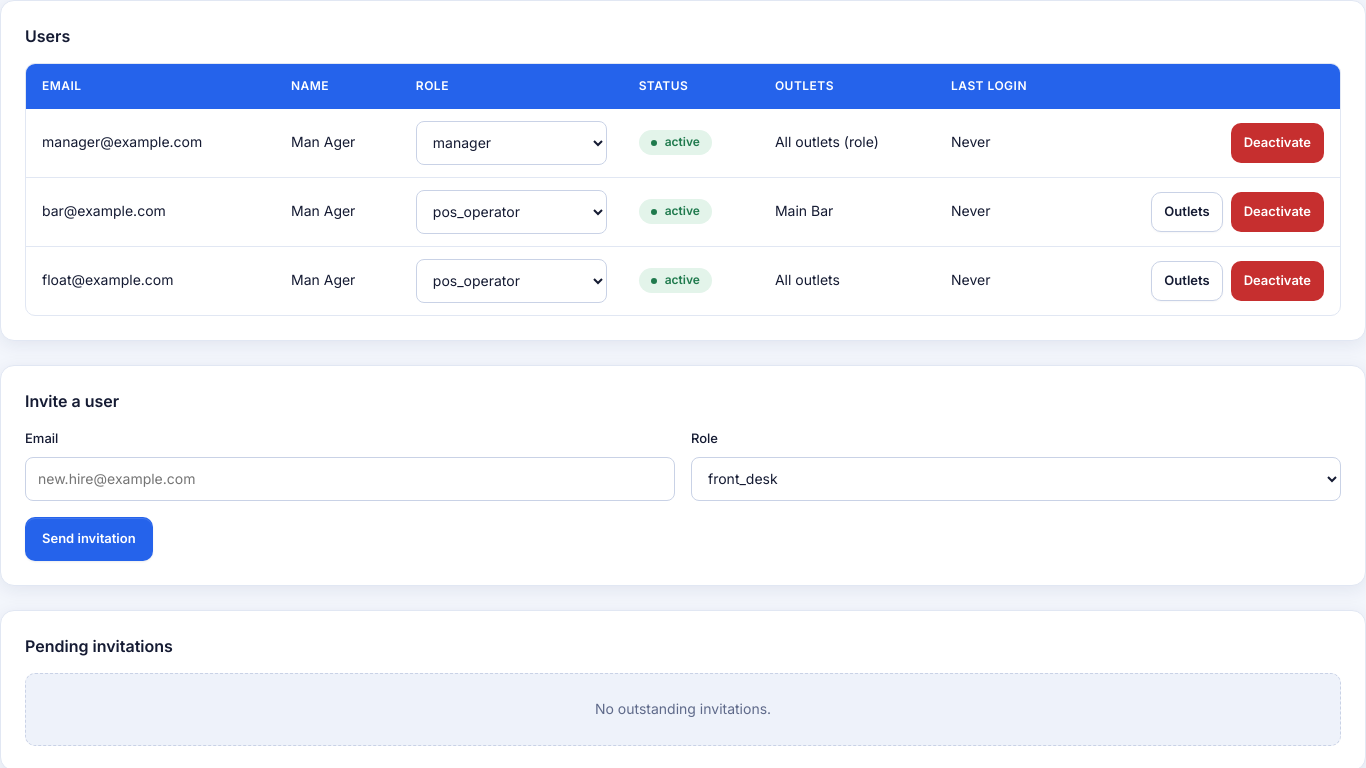
Test: <UsersTab> › staff outlets › shows the server’s refusal
This screenshot has width=1366, height=768.
Click the button with aria-label "Outlets for float@example.com" at (1187, 281), box [1151, 261, 1223, 301]
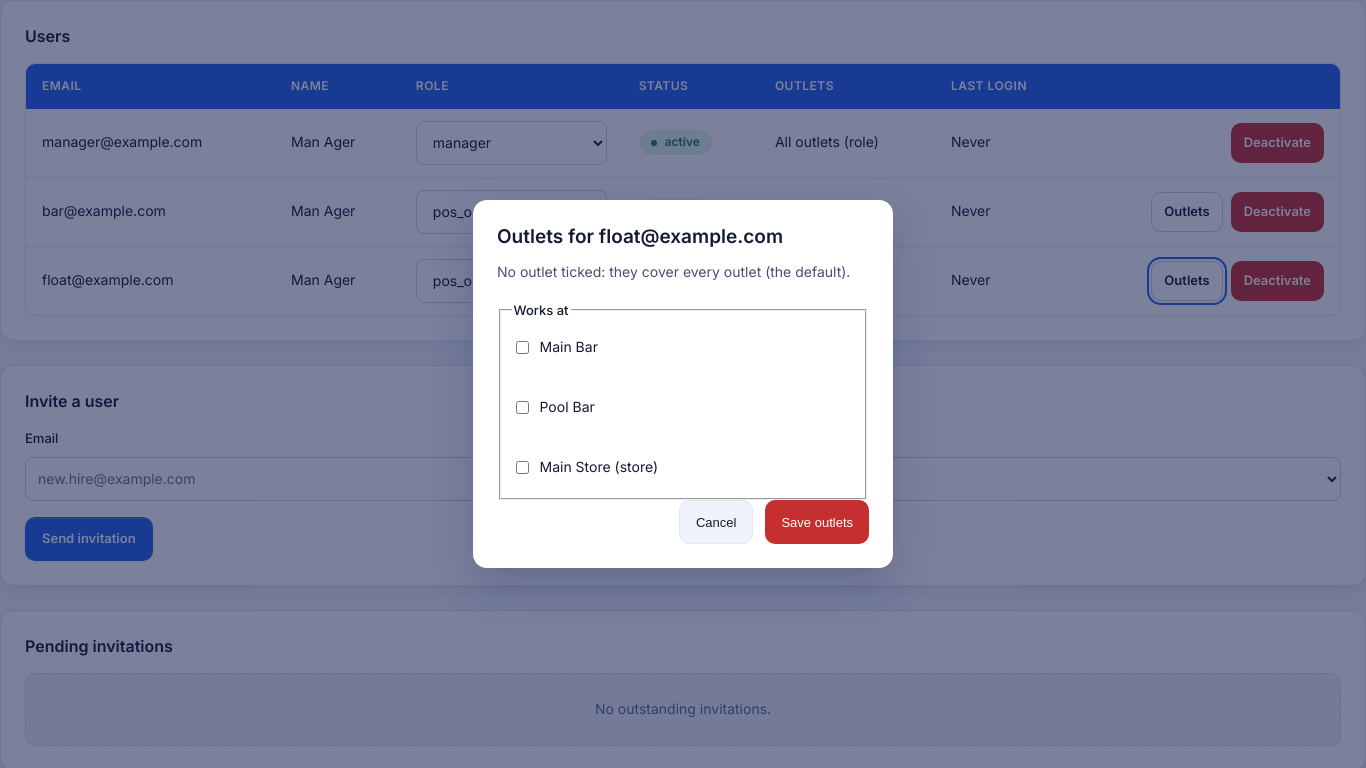
Click the checkbox labelled "Main Store (store)" at (522, 468), box [516, 461, 528, 474]
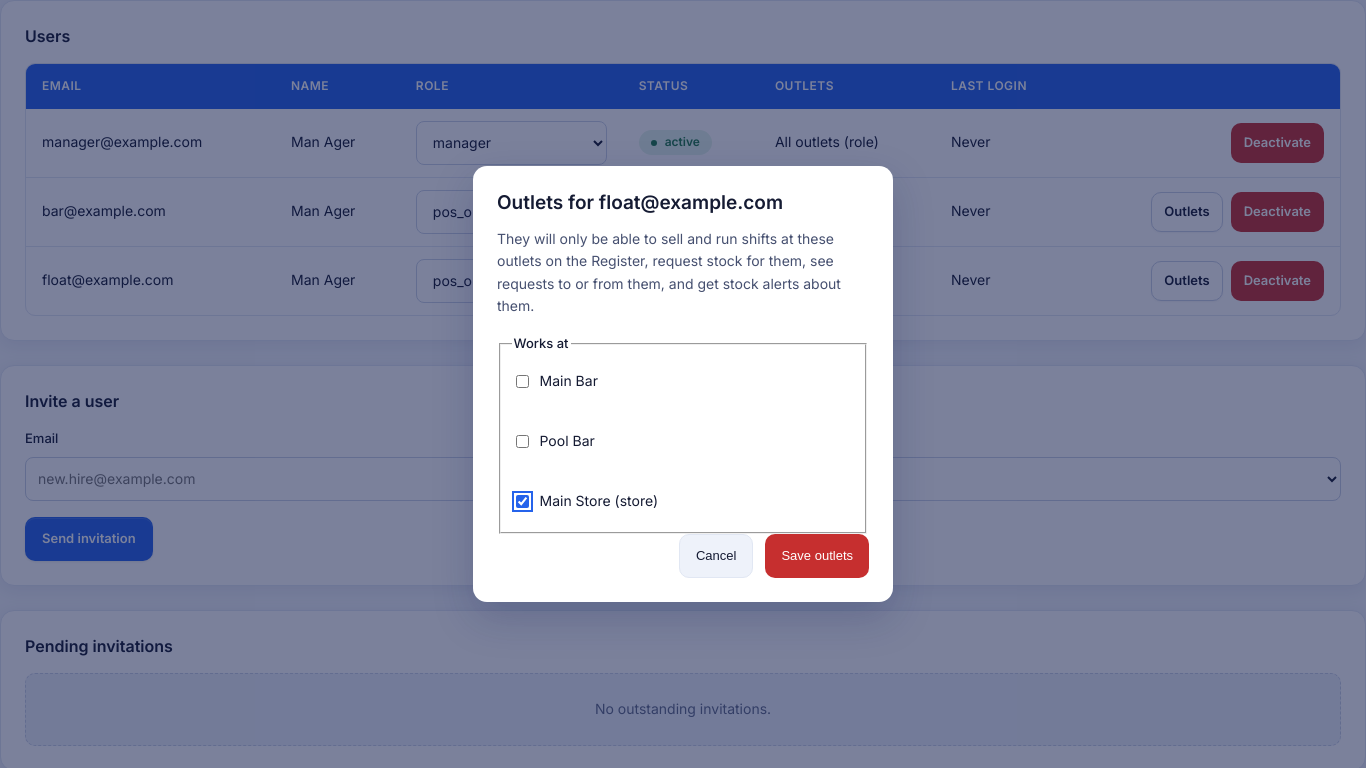
Click the button "Save outlets" at (817, 556), box [766, 534, 869, 578]
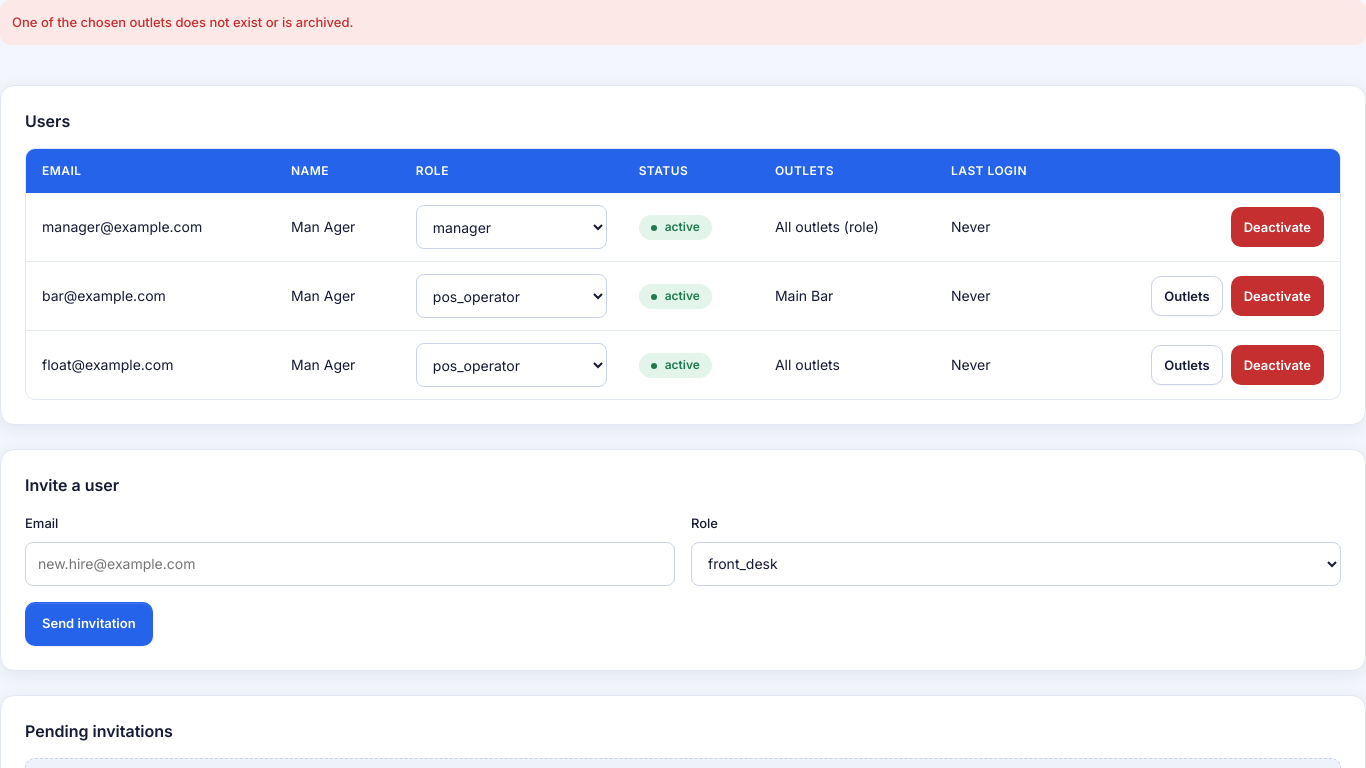
Check: the message shows "does not exist or is archived", box [12, 14, 353, 30]
